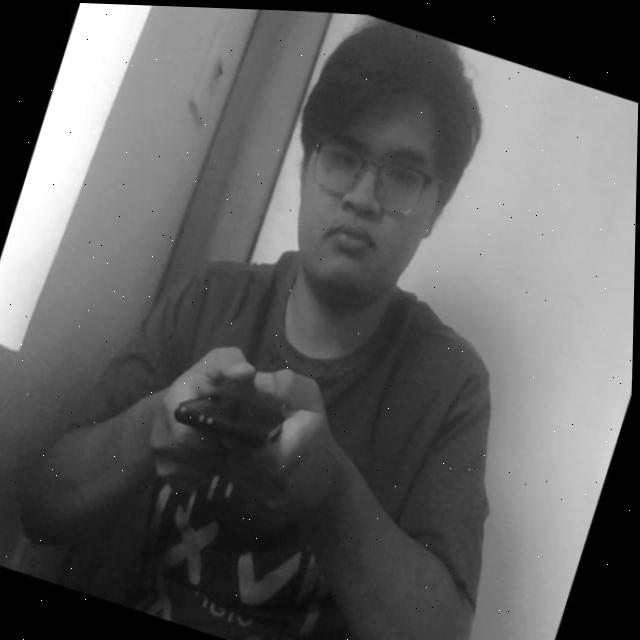phone: (151, 339, 327, 489)
